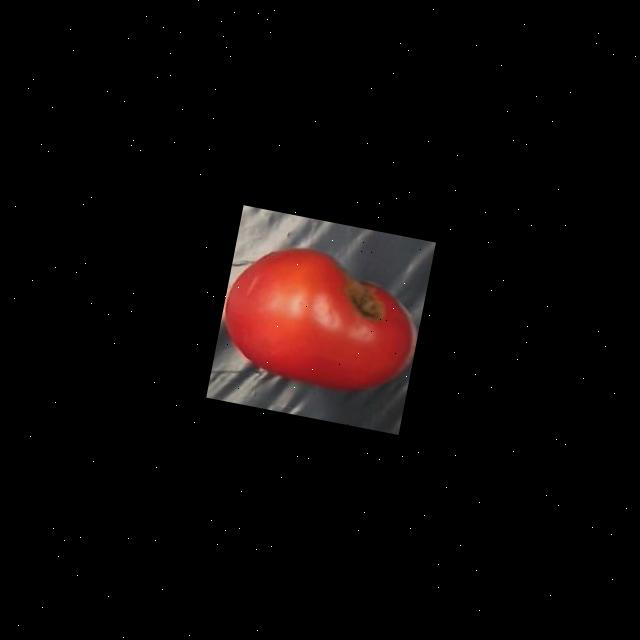tomato: (210, 220, 432, 412)
